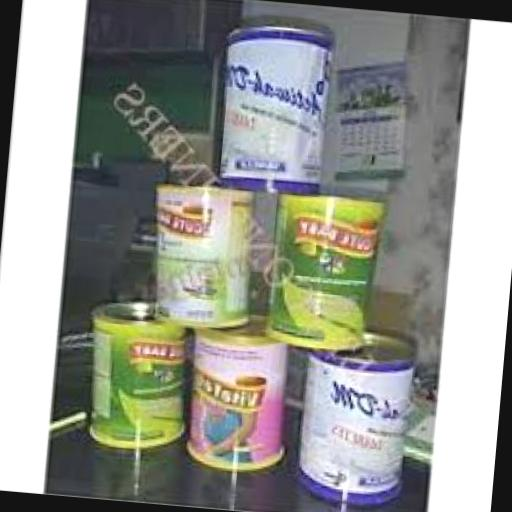metal: (294, 319, 424, 510), (216, 17, 337, 189), (268, 188, 388, 352), (82, 291, 196, 452), (182, 314, 296, 474), (146, 173, 256, 329)
